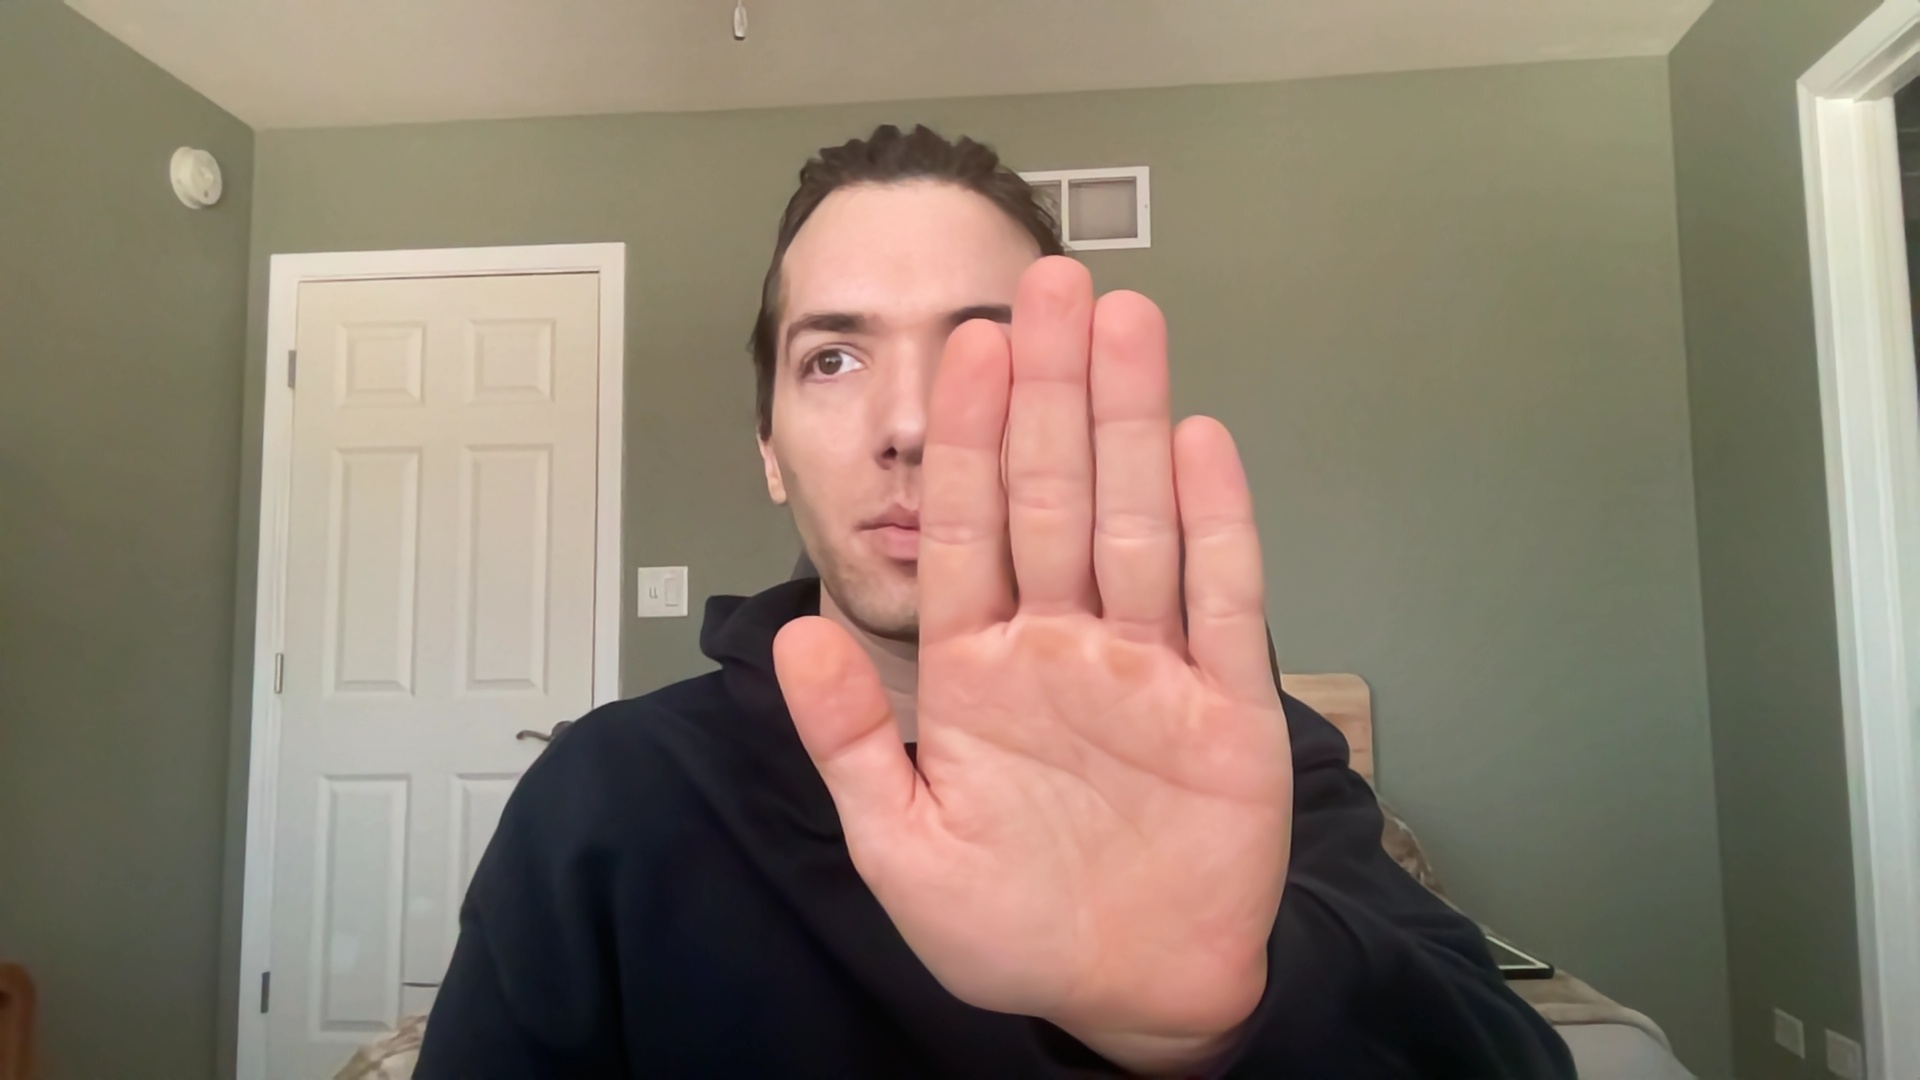Hello: (740, 233, 1324, 1059)
